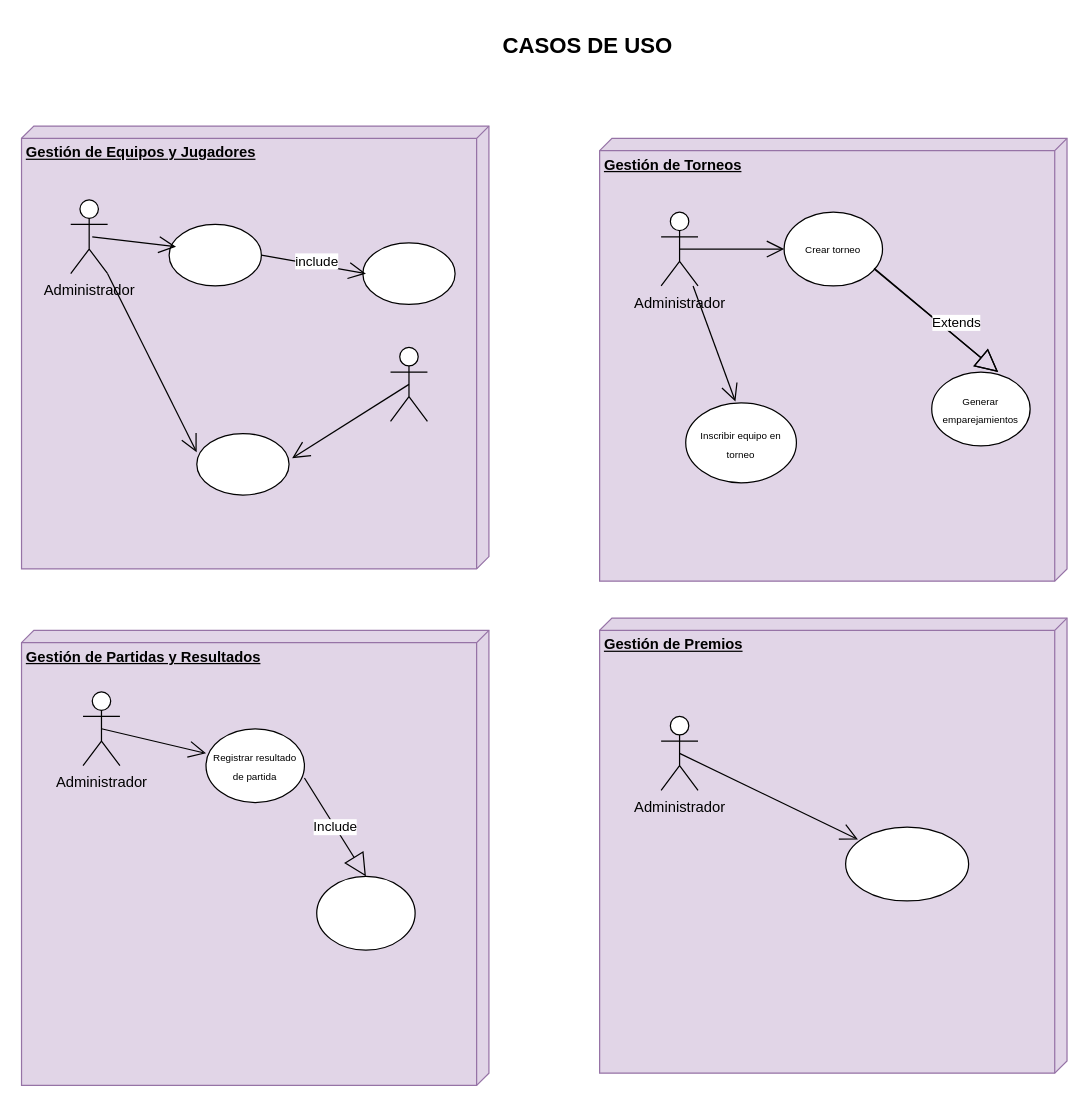
Some shapes in this 1089 by 1107 pixel diagram are drawn without their labels. Each missing label, with the centre of its shape:
Actualizar clasificación: point 365,912
Asignar premios: point 906,863
Añadir jugador a equipo: point 408,273
Consultar equipos y jugadores: point 242,463
Jugador: point 408,383
Registrar equipo: point 214,254
